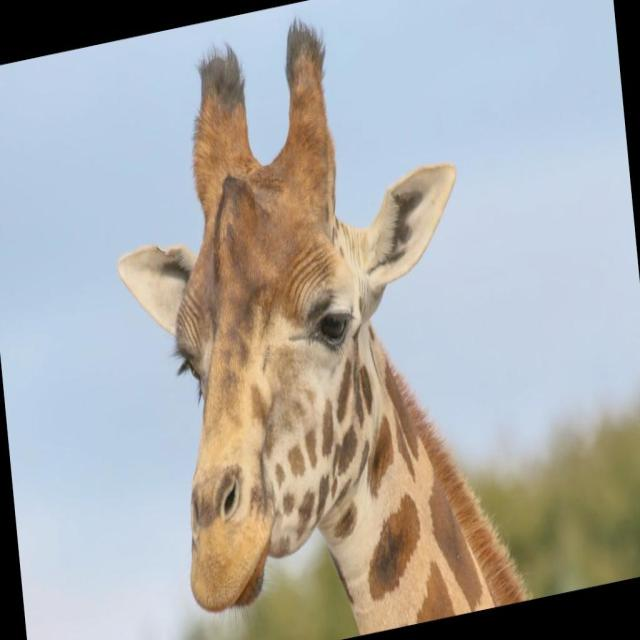Giraffe: (103, 12, 545, 626)
